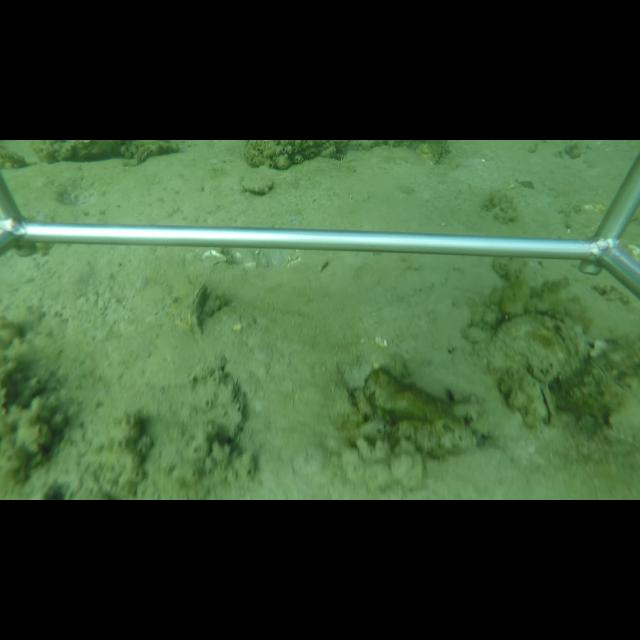Oyster-Closed: (491, 314, 592, 380), (188, 282, 211, 342)
Oyster-Open: (520, 375, 557, 428), (236, 175, 275, 198)
